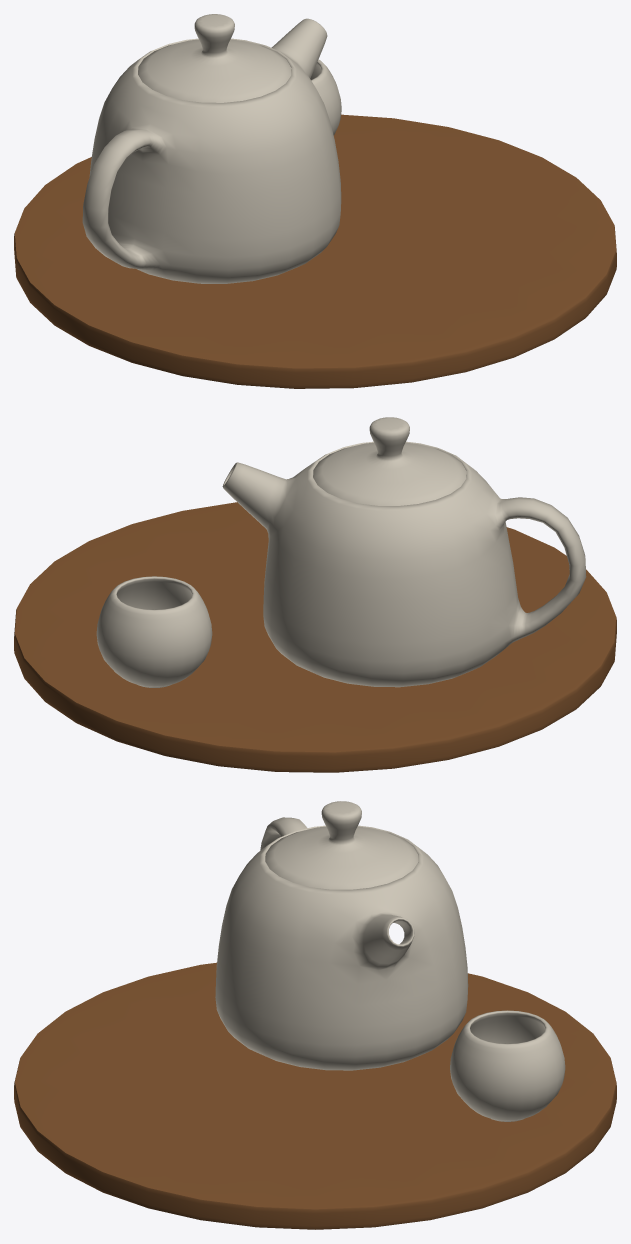
Rendered from tea.glb.
The picture shows the model from 3 angles, top to bottom: view 1: azimuth 30°, elevation 25°; view 2: azimuth 150°, elevation 25°; view 3: azimuth 270°, elevation 25°; orthographic projection.
Parts seen in each view (by area): view 1: Plate, TeaPot, Cup; view 2: Plate, TeaPot, Cup; view 3: Plate, TeaPot, Cup.
Part boxes in pixels (left/top/right/bottom): Plate: left=14, top=114, right=616, bottom=388; TeaPot: left=82, top=14, right=341, bottom=283; Cup: left=310, top=59, right=341, bottom=135; Plate: left=14, top=502, right=616, bottom=772; TeaPot: left=222, top=417, right=586, bottom=687; Cup: left=96, top=576, right=212, bottom=687; Plate: left=14, top=962, right=616, bottom=1229; TeaPot: left=215, top=801, right=468, bottom=1070; Cup: left=450, top=1010, right=565, bottom=1121.
Size of the model in its own units: 575 by 267 by 575.
